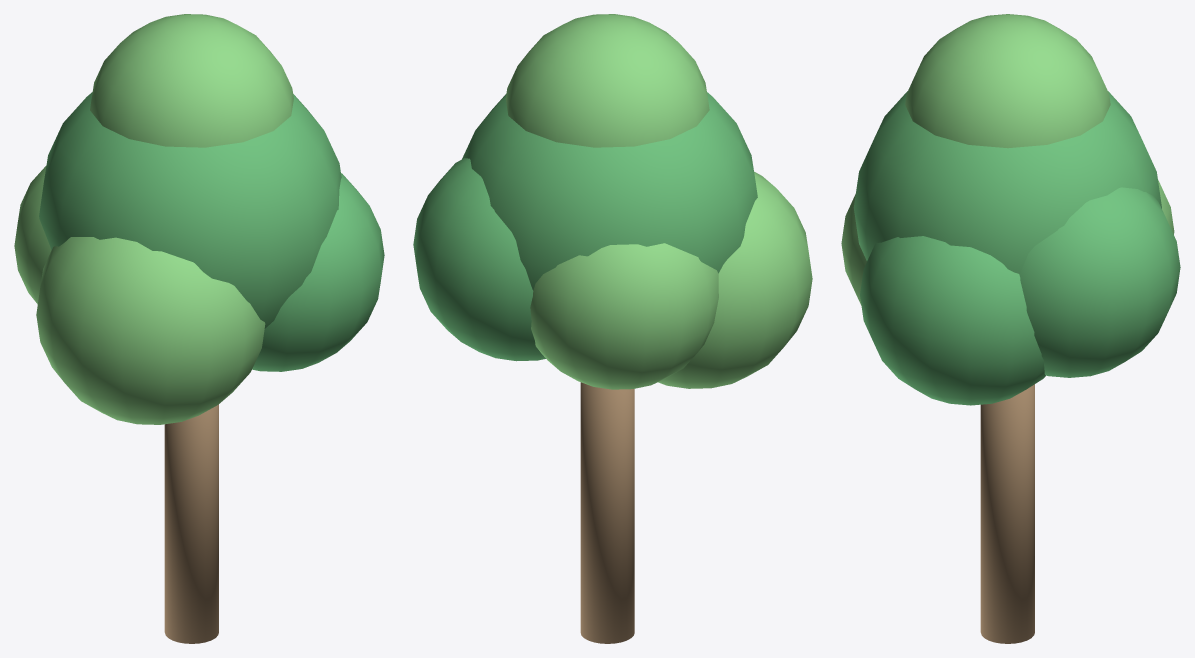
Rendered from boulevard_tree.glb.
The picture shows the model from 3 angles, left to right: view 1: azimuth 30°, elevation 25°; view 2: azimuth 150°, elevation 25°; view 3: azimuth 270°, elevation 25°; orthographic projection.
Visible parts, largest first — view 1: Canopy_0, Canopy_1, Canopy_5, Canopy_2, Trunk, Canopy_3; view 2: Canopy_0, Canopy_3, Canopy_5, Canopy_4, Canopy_1, Trunk; view 3: Canopy_0, Canopy_2, Canopy_4, Canopy_5, Trunk, Canopy_1.
Part boxes in pixels (x1,y1,x2,y2): Canopy_0: [39, 92, 341, 328]; Canopy_1: [36, 237, 265, 424]; Canopy_5: [90, 14, 293, 147]; Canopy_2: [252, 173, 384, 371]; Trunk: [164, 404, 218, 643]; Canopy_3: [14, 166, 51, 304]; Canopy_0: [462, 92, 757, 290]; Canopy_3: [530, 243, 718, 389]; Canopy_5: [505, 14, 709, 147]; Canopy_4: [413, 158, 545, 361]; Canopy_1: [658, 171, 812, 388]; Trunk: [580, 382, 634, 643]; Canopy_0: [853, 91, 1161, 273]; Canopy_2: [860, 236, 1045, 405]; Canopy_4: [1019, 187, 1180, 377]; Canopy_5: [905, 14, 1110, 148]; Trunk: [980, 384, 1034, 643]; Canopy_1: [841, 194, 866, 305].
Size of the model in its own units: 3.05 by 5.45 by 2.75.
